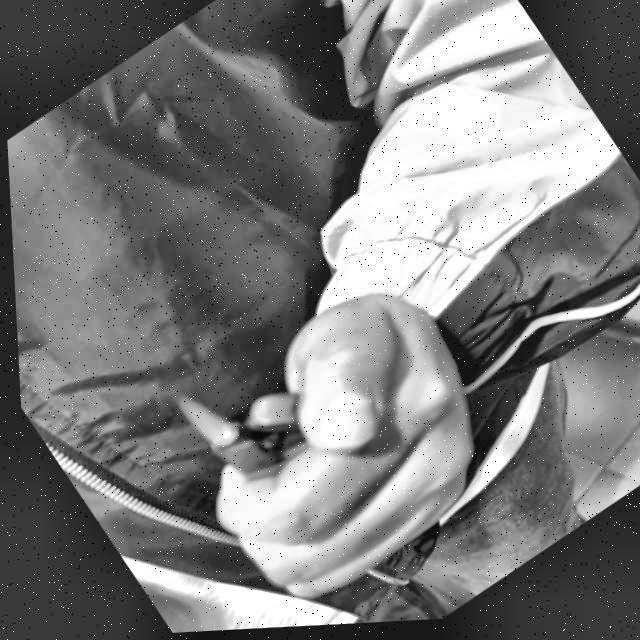Fire: (166, 384, 230, 455)
